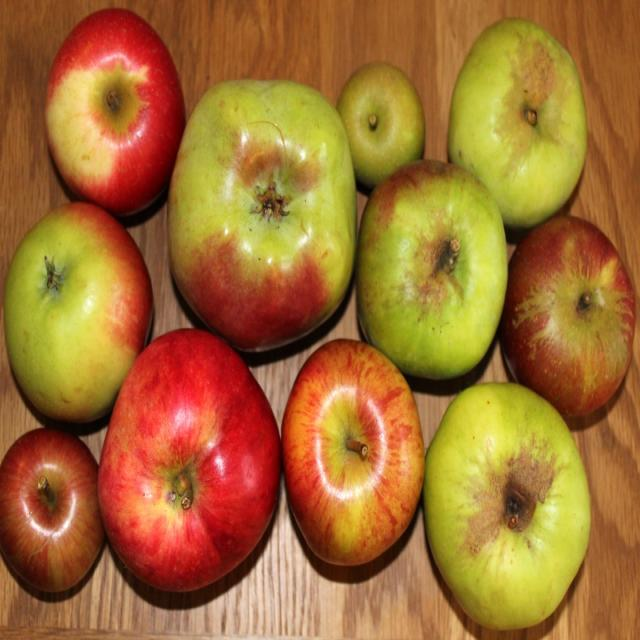Green Apple: (166, 80, 359, 350), (421, 382, 595, 630), (355, 159, 508, 380), (2, 200, 154, 422)
Red Apple: (97, 327, 283, 593), (281, 336, 427, 570), (44, 7, 187, 218), (2, 428, 106, 600)
